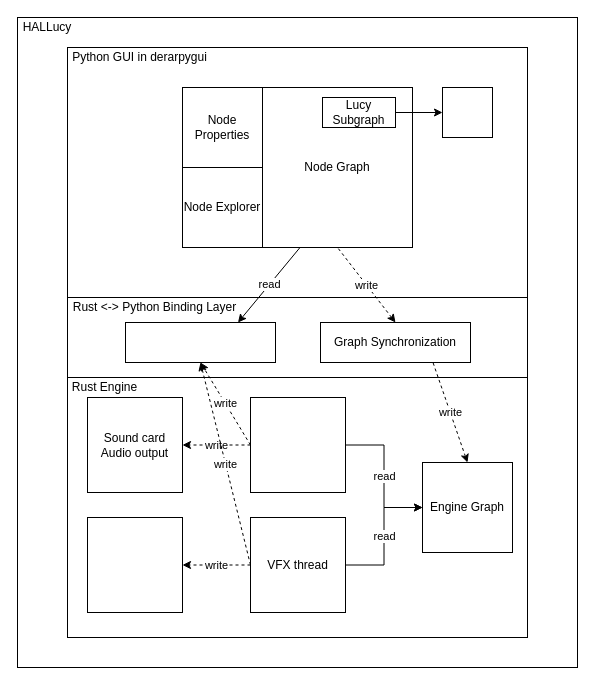
This 595x685 diagram has some shape labels left out. Each missing label, with the box of its shape:
Audio thread: (250, 396, 346, 492)
GPU dedicated output window: (86, 516, 182, 612)
Lucy Logic: (442, 86, 492, 138)
Return Buffer (for lightweight usage): (124, 322, 276, 362)
